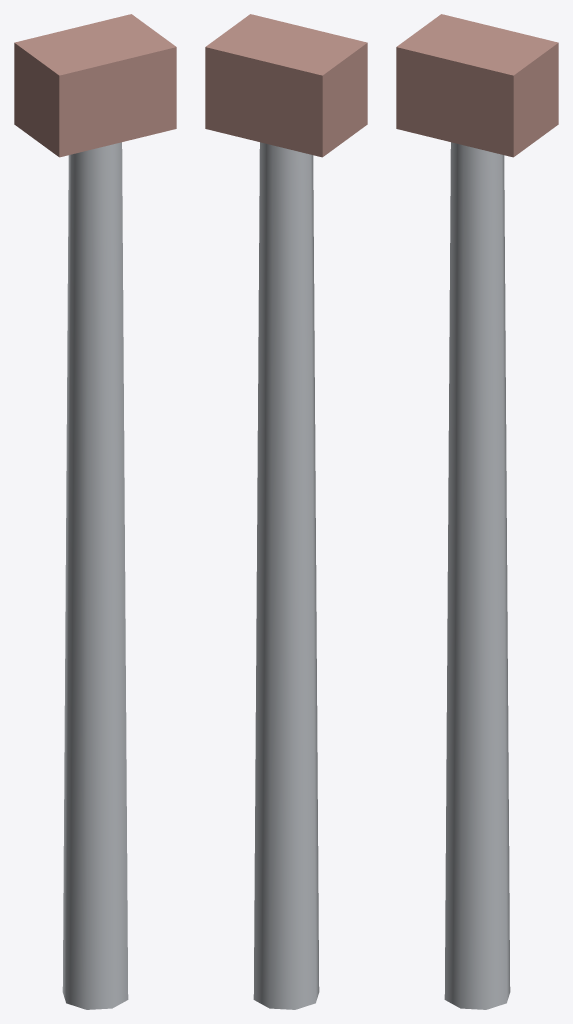
File: prop.glb
3 views of the same model, side by side, from view 1: azimuth 30°, elevation 25°; view 2: azimuth 150°, elevation 25°; view 3: azimuth 330°, elevation 25° (orthographic).
Visible parts, largest first — view 1: Metal, Cloth; view 2: Metal, Cloth; view 3: Metal, Cloth.
Part boxes in pixels (bbox=[...]): Metal: bbox=[62, 142, 128, 1009]; Cloth: bbox=[14, 14, 176, 157]; Metal: bbox=[253, 142, 319, 1009]; Cloth: bbox=[205, 14, 367, 157]; Metal: bbox=[444, 142, 510, 1009]; Cloth: bbox=[396, 14, 558, 157].
Bounding box in the file's own units: 0.06 × 0.465 × 0.04.
